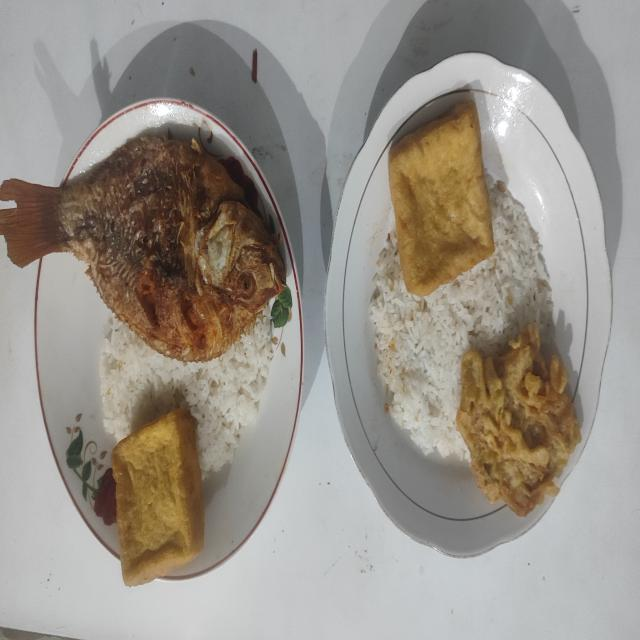ikan_mujair: (0, 136, 285, 362)
nasi_putih: (369, 184, 553, 461), (100, 309, 276, 477)
tahu_goreng: (388, 101, 494, 296), (112, 408, 205, 586)
